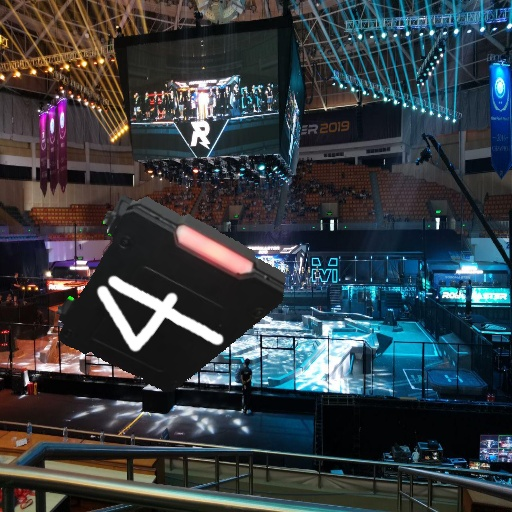red: (57, 194, 285, 391)
